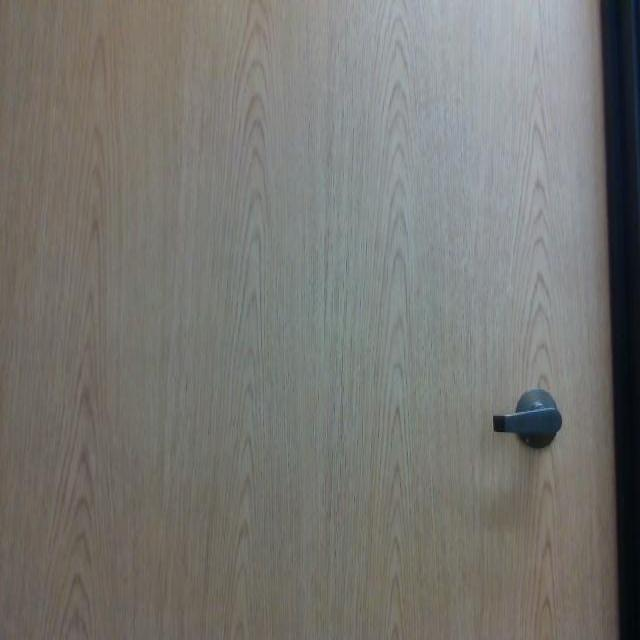doorhandle: (486, 386, 566, 454)
